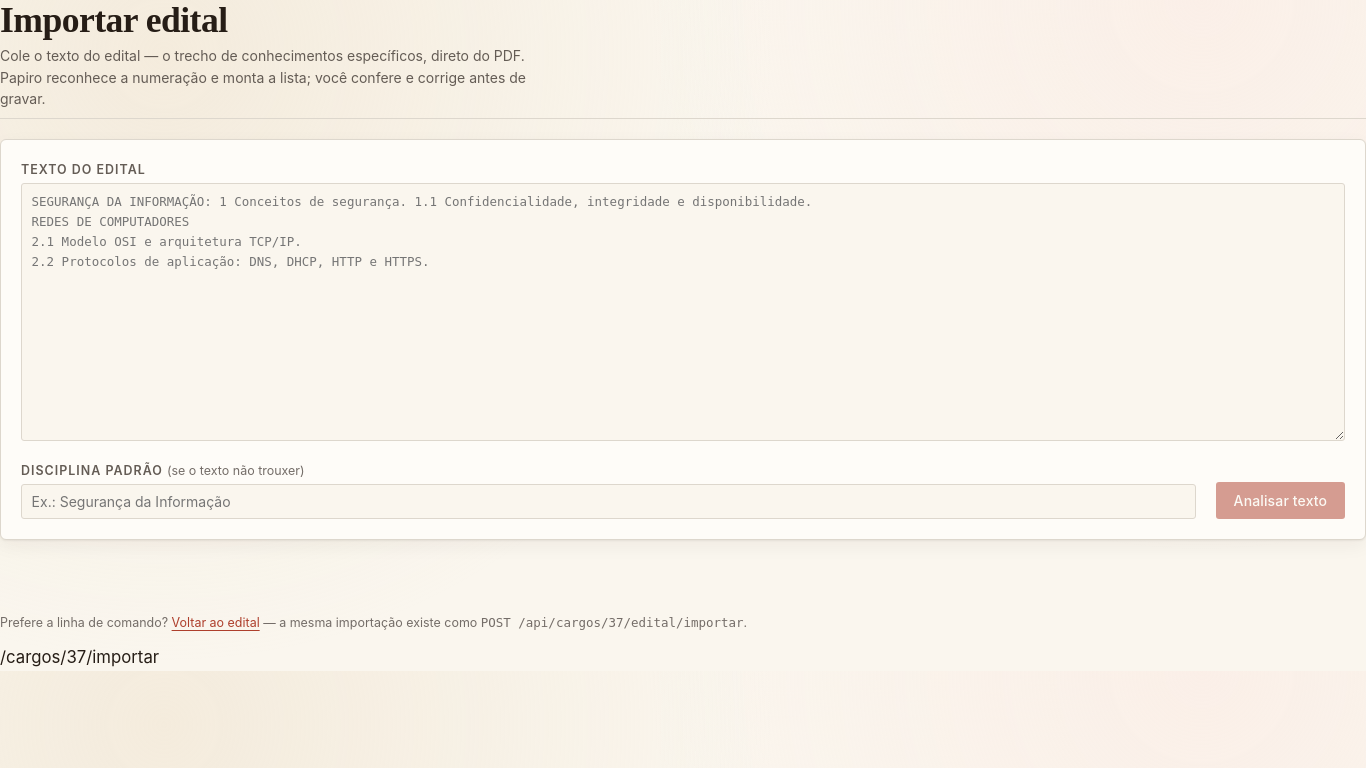
Test: PaginaImportar — analise › usa a disciplina padrao quando o texto nao traz cabecalho
Click the field labelled "Disciplina padrão (se o texto não trouxer)".
click(608, 501)  # box [21, 484, 1196, 519]
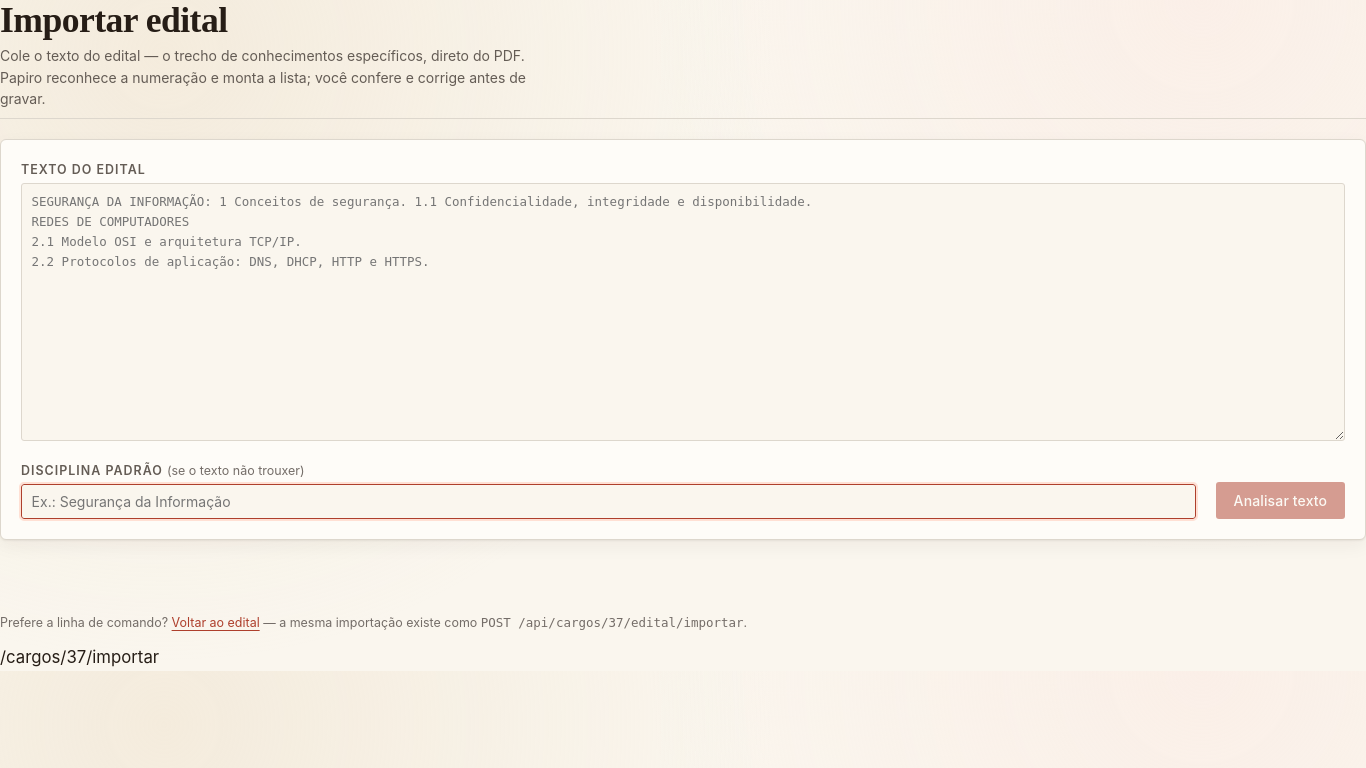
Type keys "Banco de Dados"
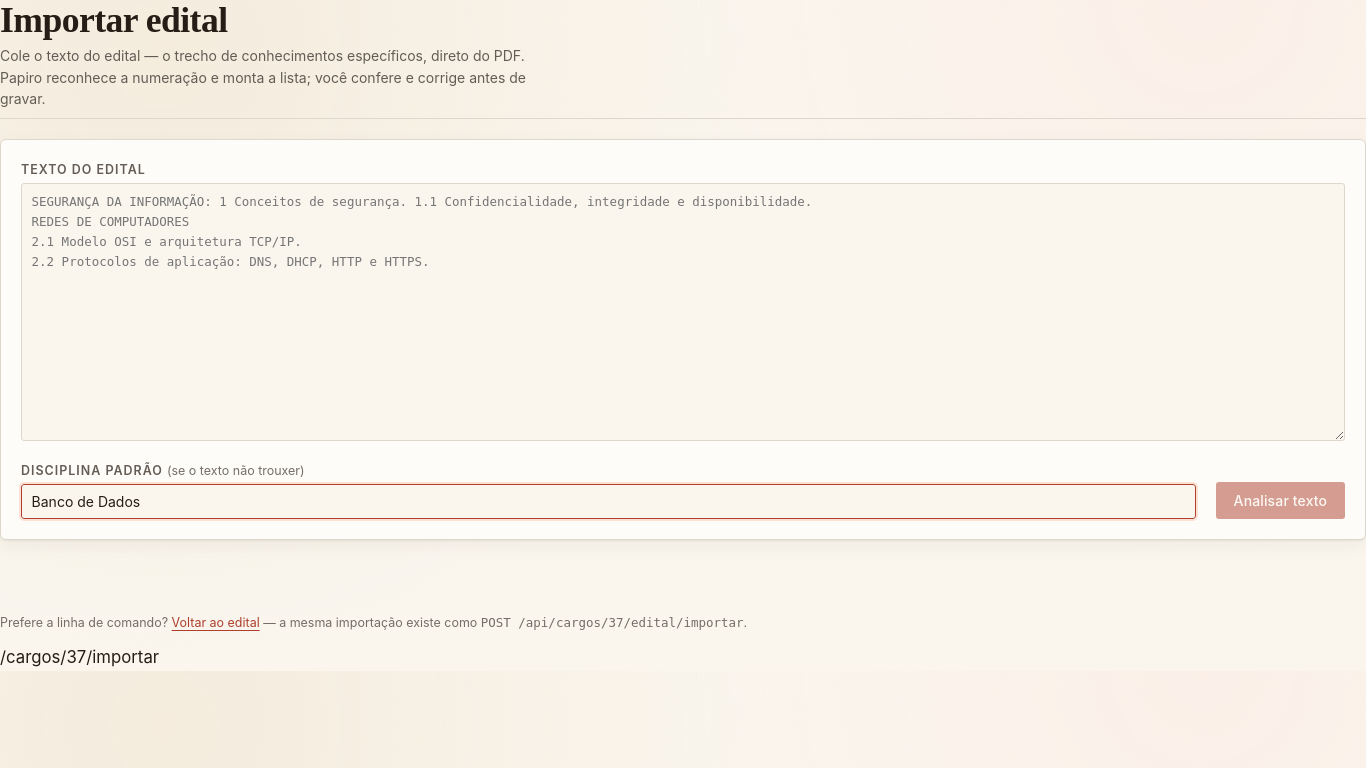
Click the text box labelled "Texto do edital".
click(683, 312)  # box [21, 183, 1345, 441]
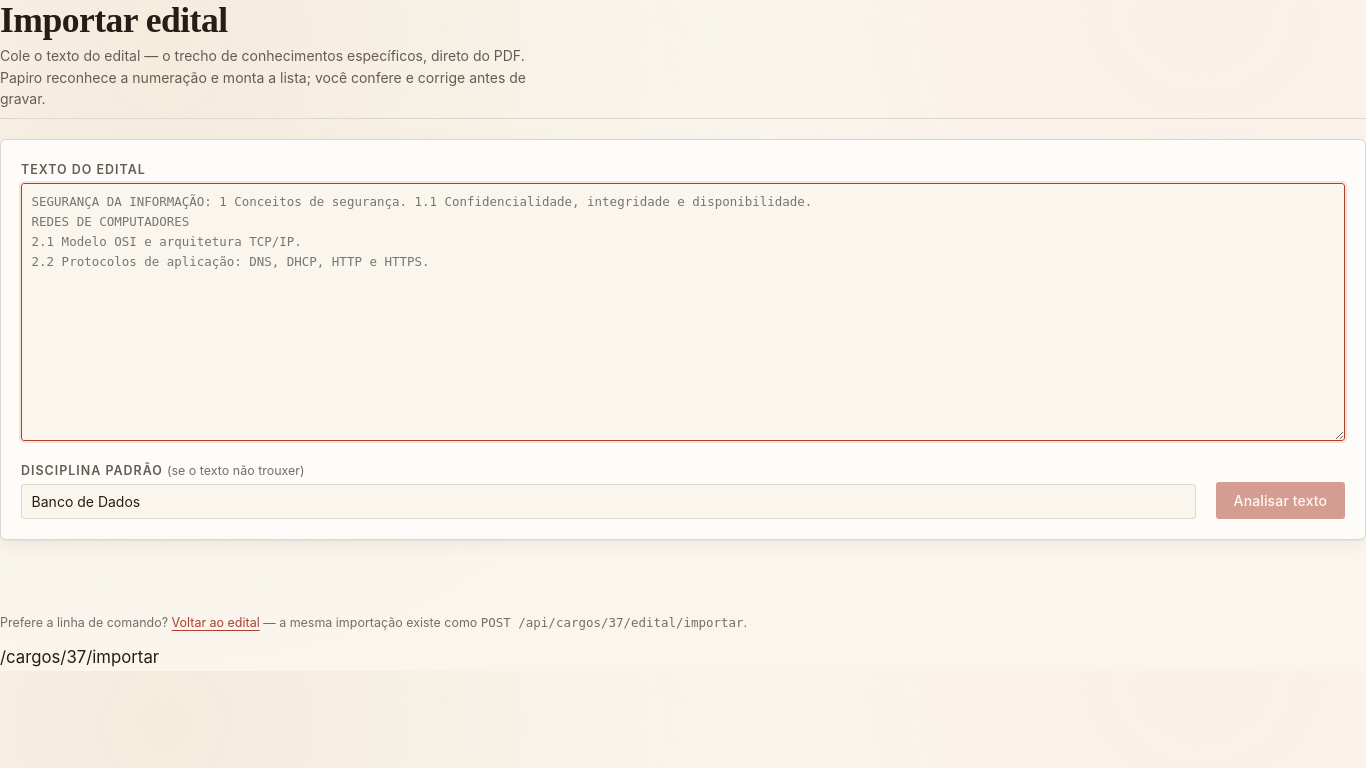
Type keys "1.1 Modelo relacional."
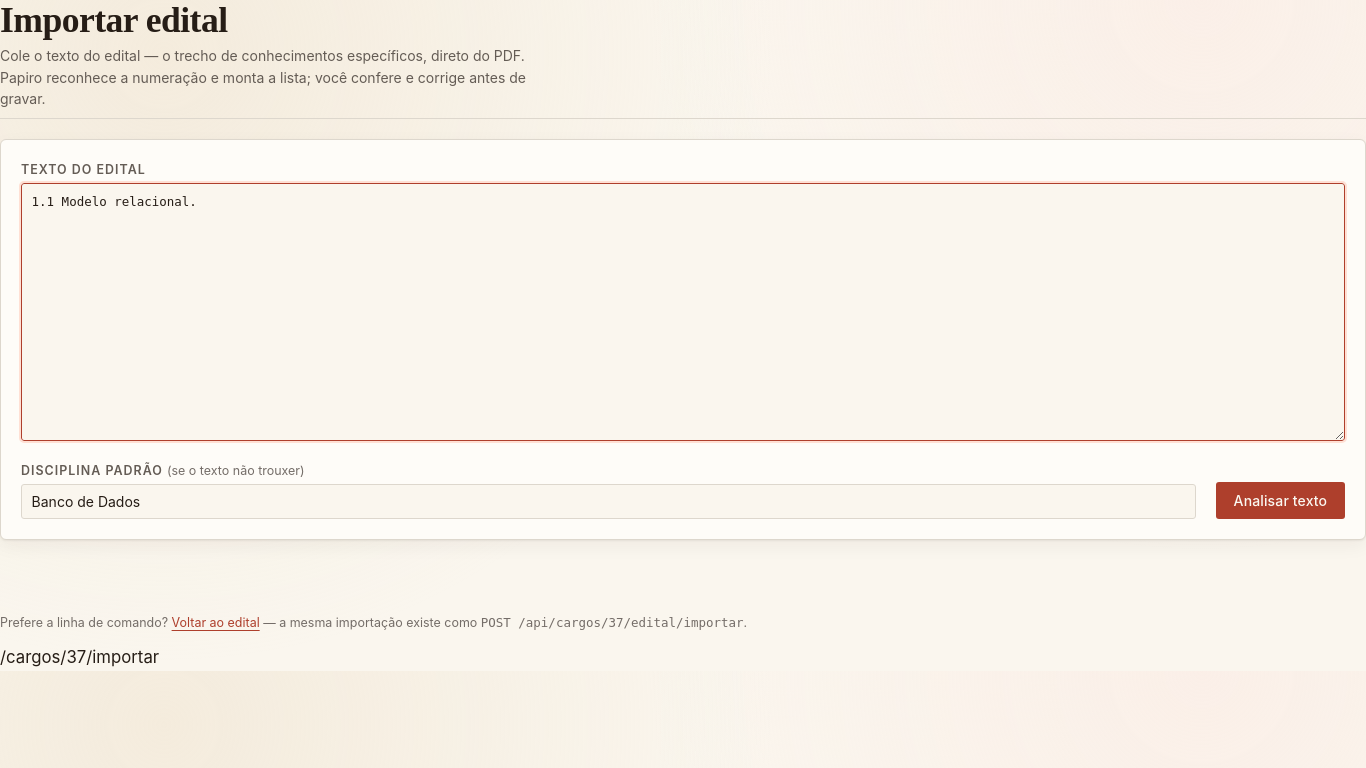
Click the button "Analisar texto".
click(1280, 501)  # box [1216, 482, 1345, 519]
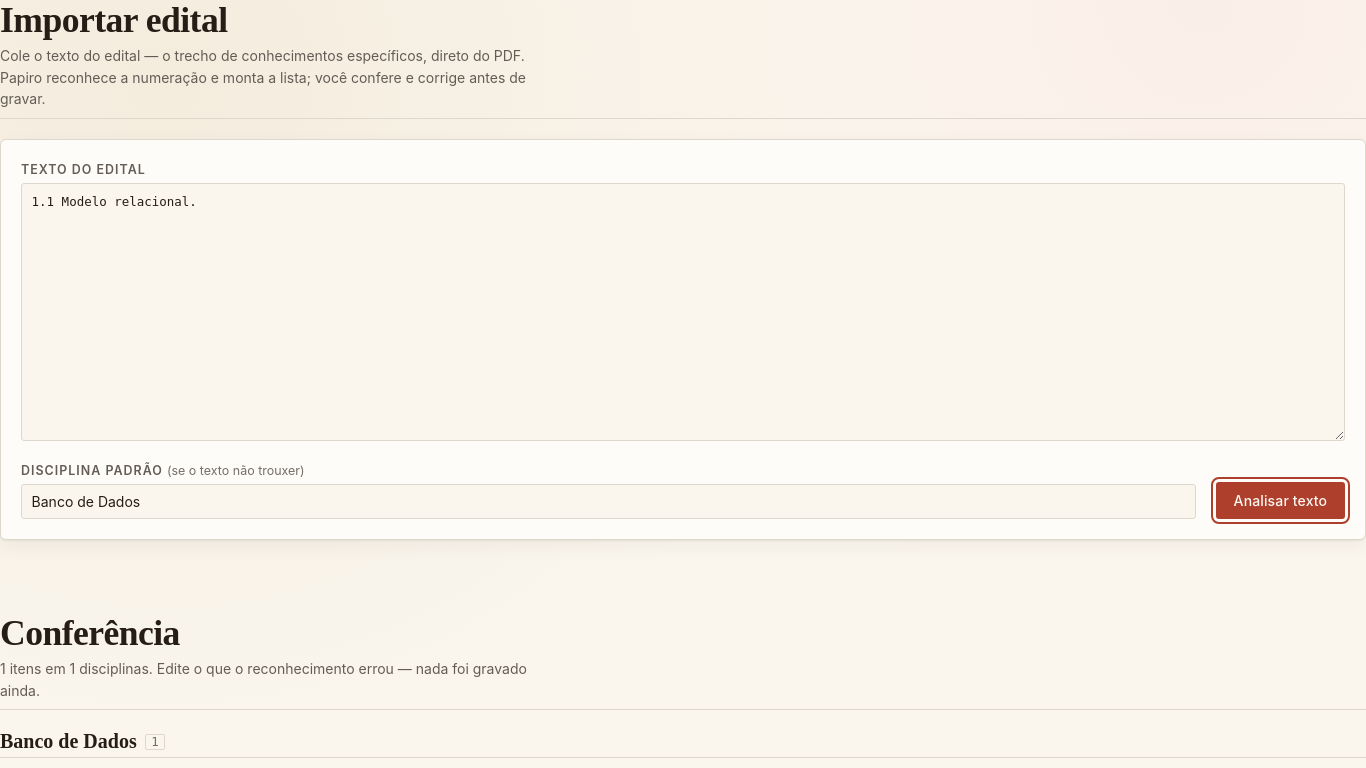
expect the heading "Banco de Dados 1" is shown: met, box [0, 730, 1365, 758]
